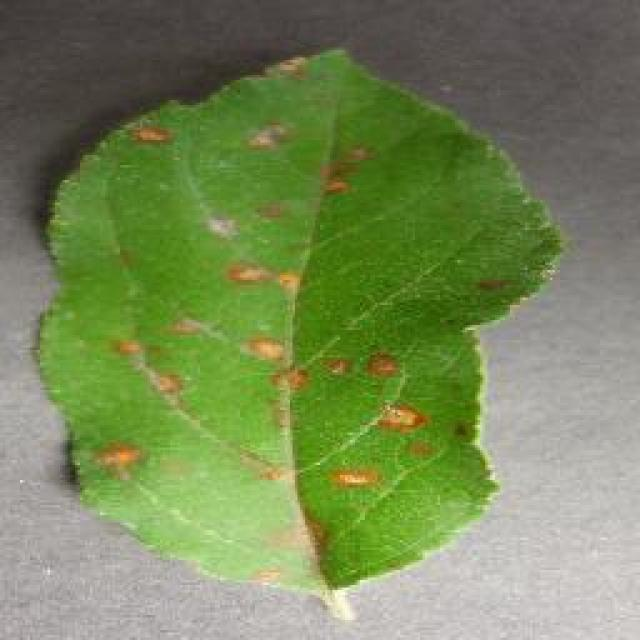apple rust disease: (33, 43, 565, 615)
